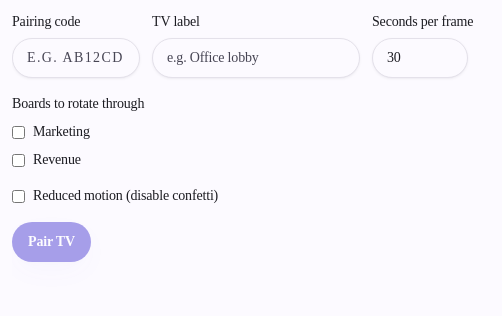
Test: ClaimTvPairingForm › shows a more specific translated error for an invalid/expired code
In the field labelled "Pairing code": [76, 58] box left=12, top=38, right=140, bottom=78, type "AB12CD"
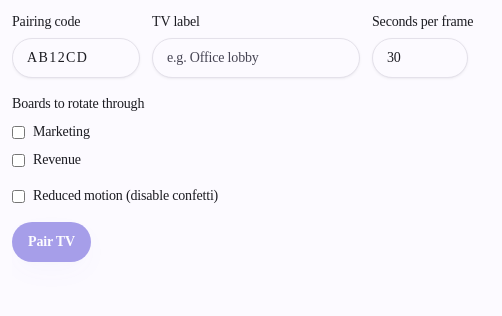
In the field labelled "TV label": [256, 58] box left=152, top=38, right=360, bottom=78, type "Office lobby"
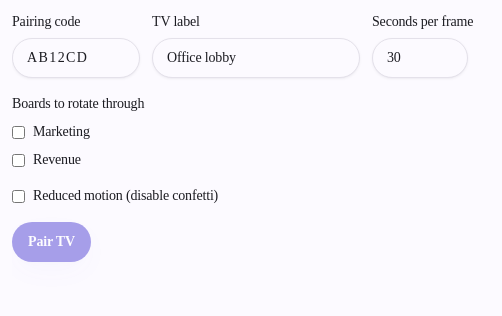
Click the checkbox labelled "Marketing": [18, 132] box left=12, top=126, right=25, bottom=138
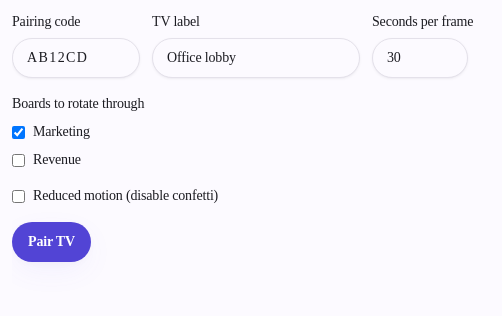
Click the button "Pair TV": [51, 242] box left=12, top=222, right=91, bottom=262
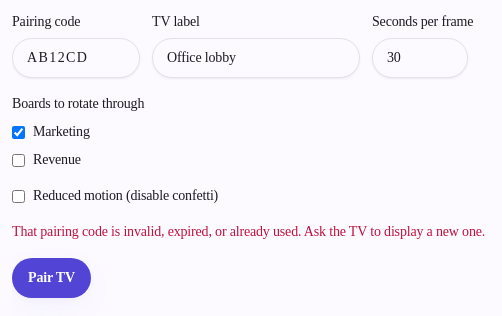
Now the message shows "That pairing code is invalid, expired, or already used. Ask the TV to display a new one.", box left=12, top=224, right=485, bottom=239
